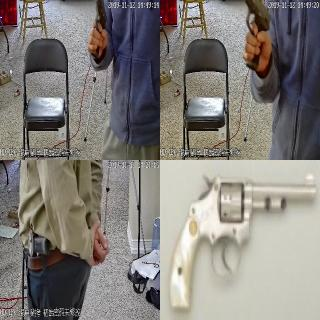gun: (168, 172, 314, 316), (240, 0, 272, 76), (86, 0, 108, 61), (27, 226, 50, 258)
